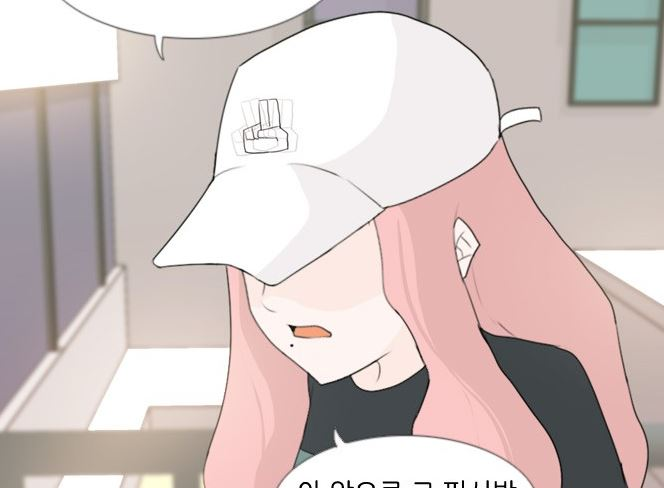hat: (151, 10, 504, 277)
